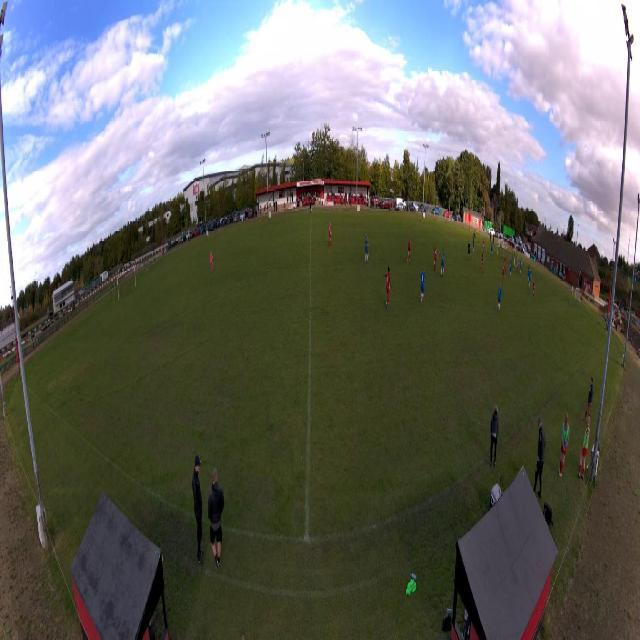player: (380, 265, 392, 311), (419, 266, 426, 304), (440, 248, 446, 279), (497, 281, 502, 315), (479, 249, 485, 275), (365, 234, 370, 265), (407, 233, 412, 264), (433, 242, 438, 272), (328, 221, 333, 248), (210, 248, 215, 274), (467, 239, 472, 263), (502, 261, 506, 282), (509, 259, 513, 279), (527, 264, 531, 283), (529, 270, 532, 290), (472, 236, 475, 255), (532, 280, 535, 299), (520, 257, 523, 276), (505, 254, 508, 272), (490, 240, 493, 257), (516, 259, 519, 276), (516, 253, 519, 269), (483, 238, 485, 253)
